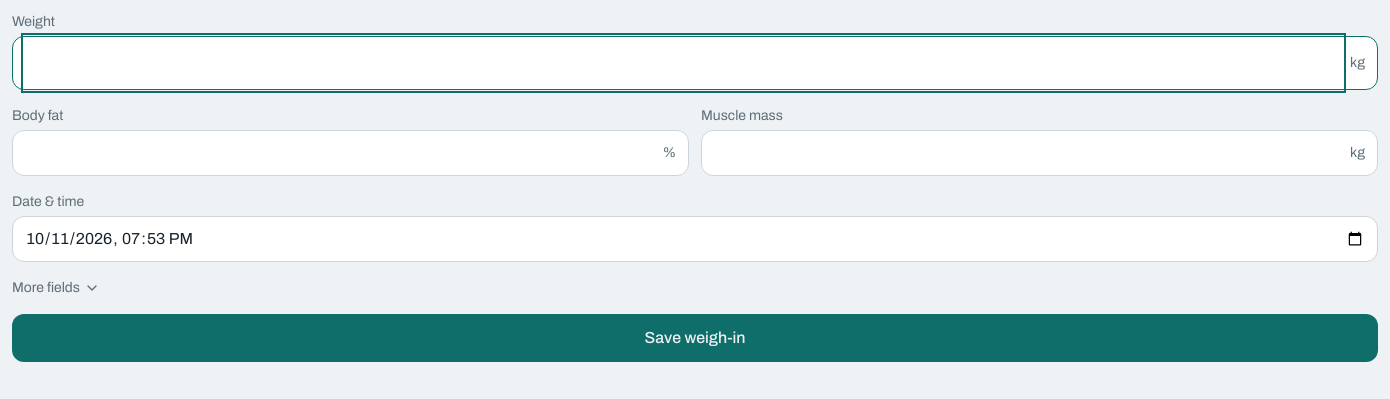
Test: WeighInForm › rejects out-of-range weight
Type "805" into the field labelled "Weight" at {"x": 684, "y": 63}, box [25,37,1342,89]
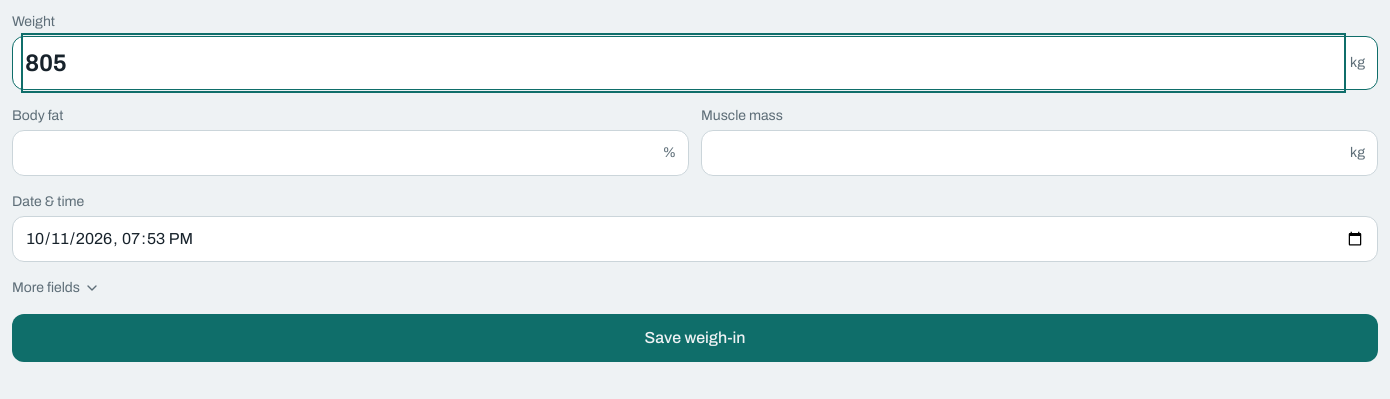
Click the button "Save weigh-in" at {"x": 695, "y": 338}, box [12,314,1378,362]
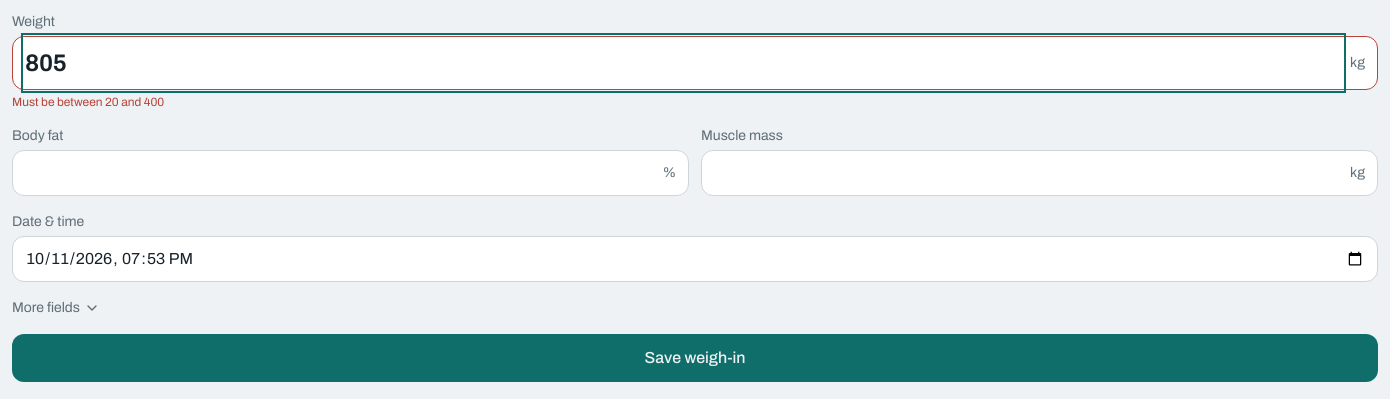
expect the text "Must be between 20 and 400" is shown: met, box [12,95,164,109]
